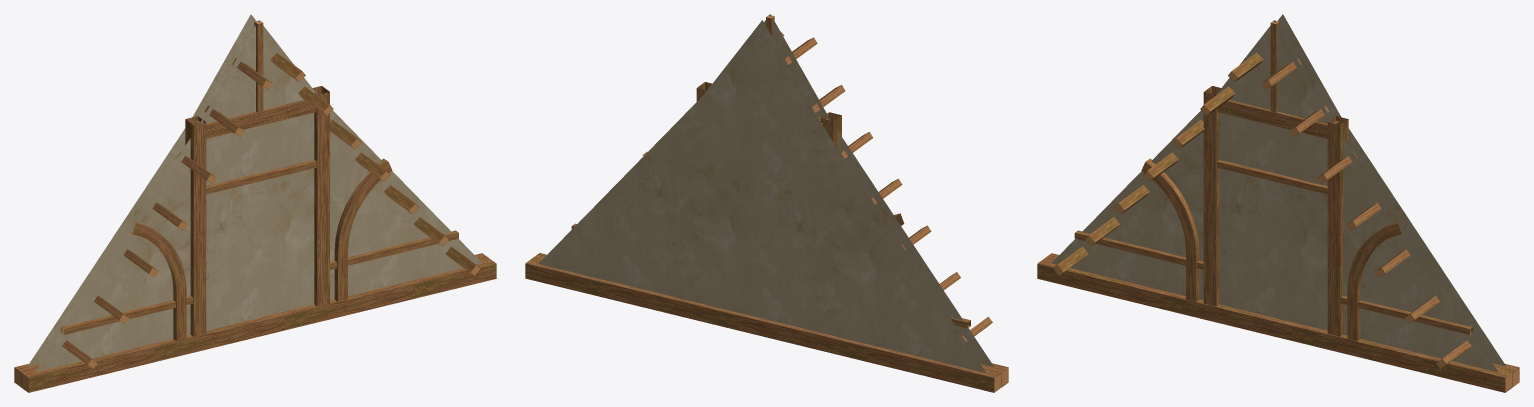
Rendered from Roof_Front_Brick8.gltf.
3 renders of one model, left to right at view 1: azimuth 30°, elevation 25°; view 2: azimuth 150°, elevation 25°; view 3: azimuth 330°, elevation 25°, orthographic.
Visible parts, largest first — view 1: Roof_Front_Brick8; view 2: Roof_Front_Brick8; view 3: Roof_Front_Brick8.
Boxes of the visible parts, left/top/right/bottom form: Roof_Front_Brick8: left=14, top=14, right=496, bottom=392; Roof_Front_Brick8: left=525, top=14, right=1008, bottom=392; Roof_Front_Brick8: left=1037, top=14, right=1519, bottom=392.
Bounding box in the file's own units: 8.51 × 5.45 × 1.13.
2 materials, 2 textured.
